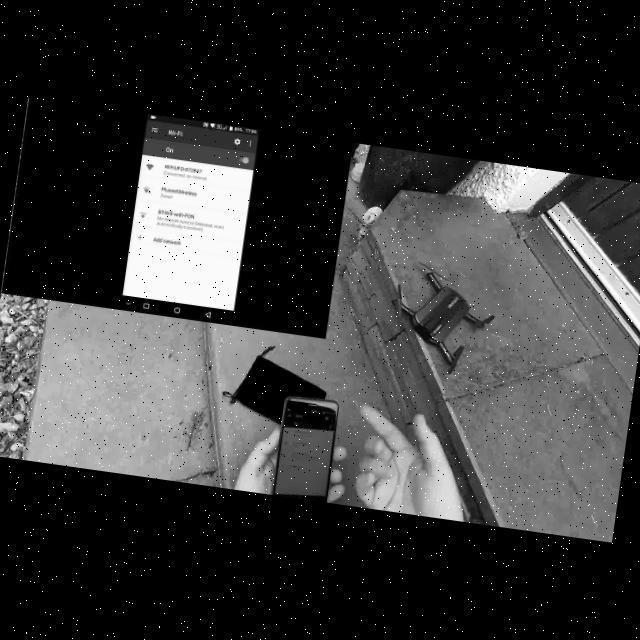Drons: (362, 245, 506, 389)
